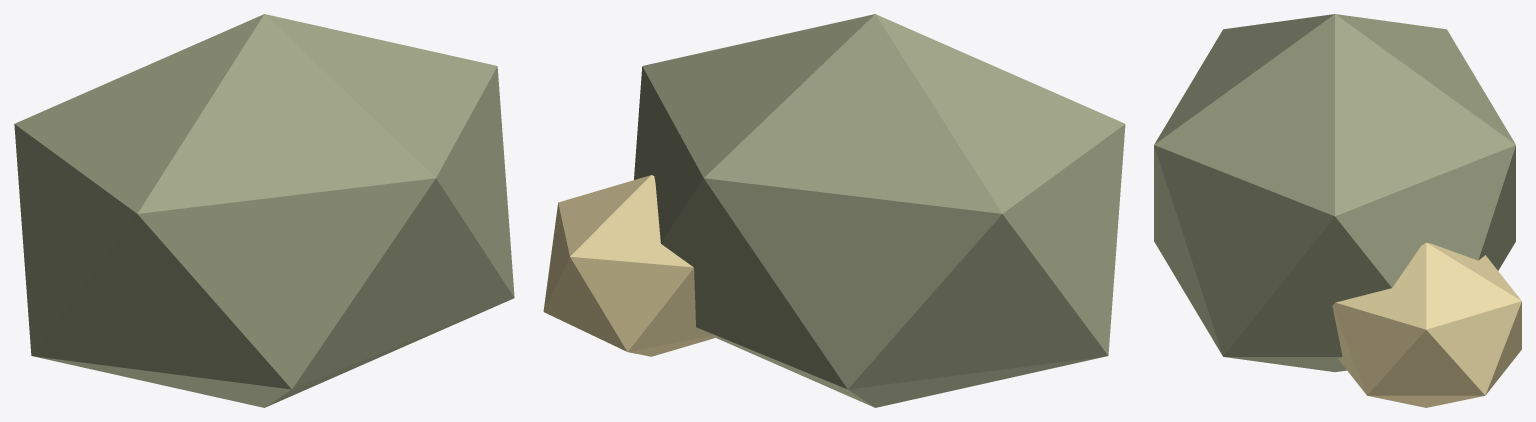
The model's file is rock.glb.
3 views of the same model, side by side, from view 1: azimuth 30°, elevation 25°; view 2: azimuth 150°, elevation 25°; view 3: azimuth 270°, elevation 25° (orthographic). The views are drawn at different scales.
Visible parts, largest first — view 1: rock; view 2: rock, chip; view 3: rock, chip.
Boxes of the visible parts, bbox=[...] form: rock: bbox=[14, 14, 514, 407]; rock: bbox=[634, 14, 1125, 407]; chip: bbox=[543, 175, 716, 356]; rock: bbox=[1154, 14, 1515, 372]; chip: bbox=[1332, 242, 1521, 407].
Bounding box in the file's own units: 1.73 × 1.3 × 1.21.
